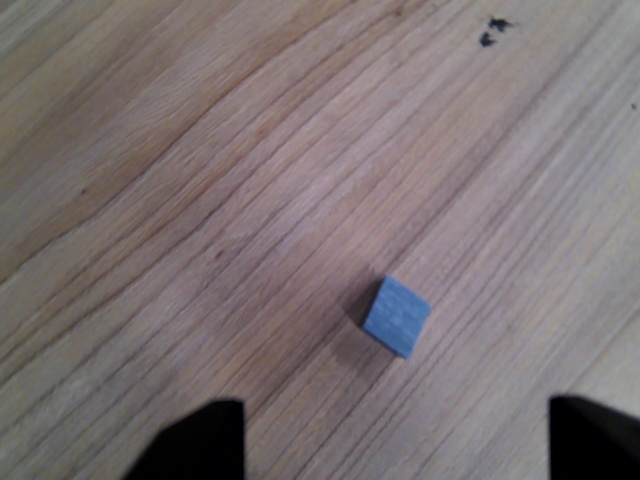stone: (360, 272, 435, 363)
